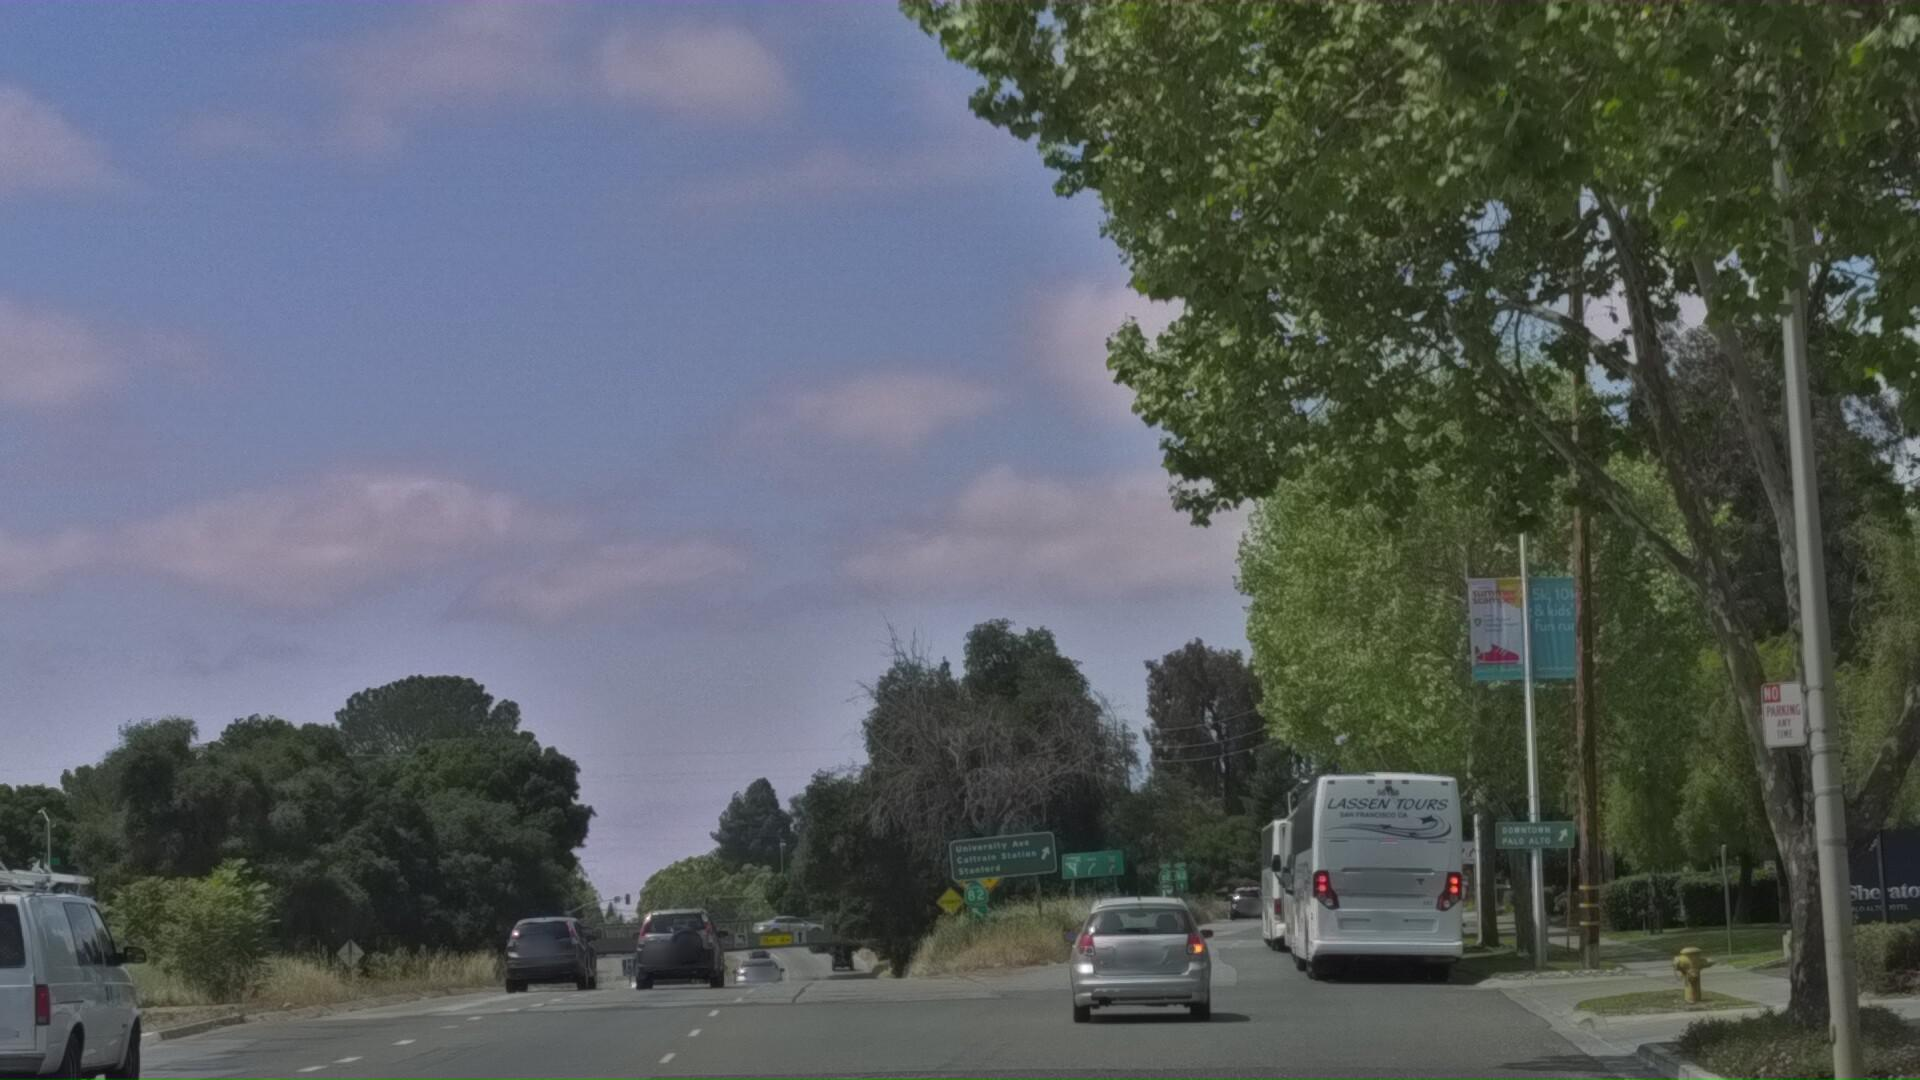bus: (1240, 853, 1474, 1080)
car: (0, 942, 152, 1080), (1052, 977, 1224, 1080), (633, 996, 738, 1080), (493, 1004, 597, 1080)
